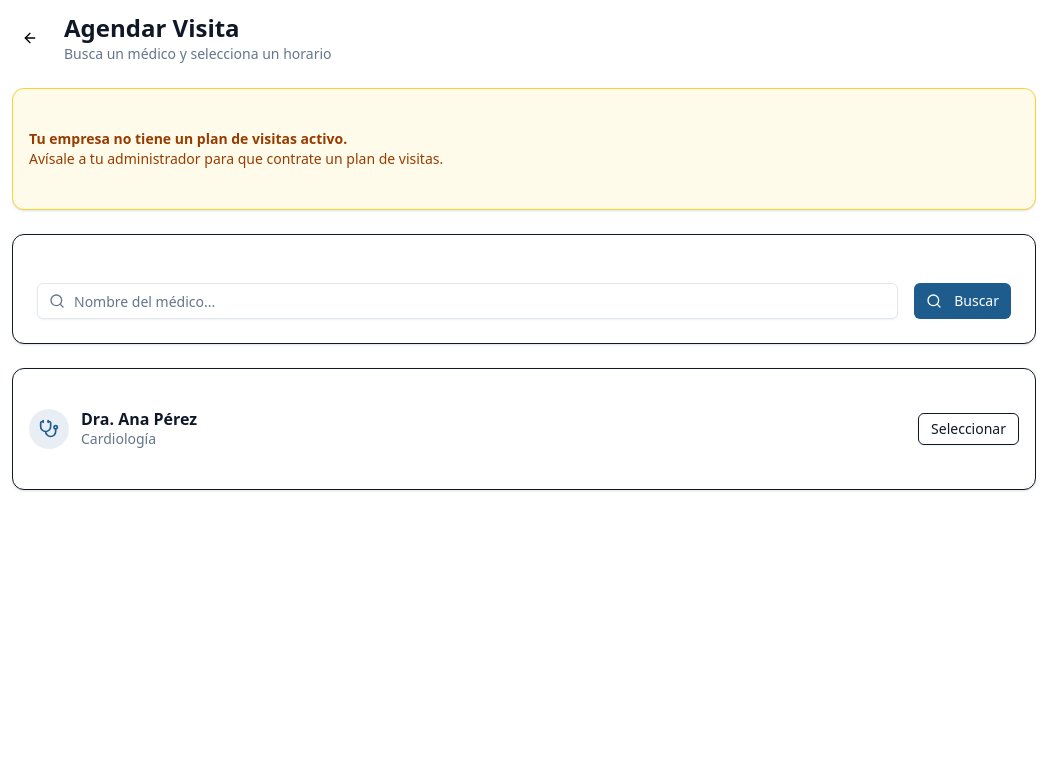
Test case: VisitadorAgendarPage — prioridad al agendar › 'propia' muestra el aviso con las visitas y no bloquea turnos
The image size is (1048, 780).
Click the button "Seleccionar".
click(969, 429)  # box [918,413,1019,445]
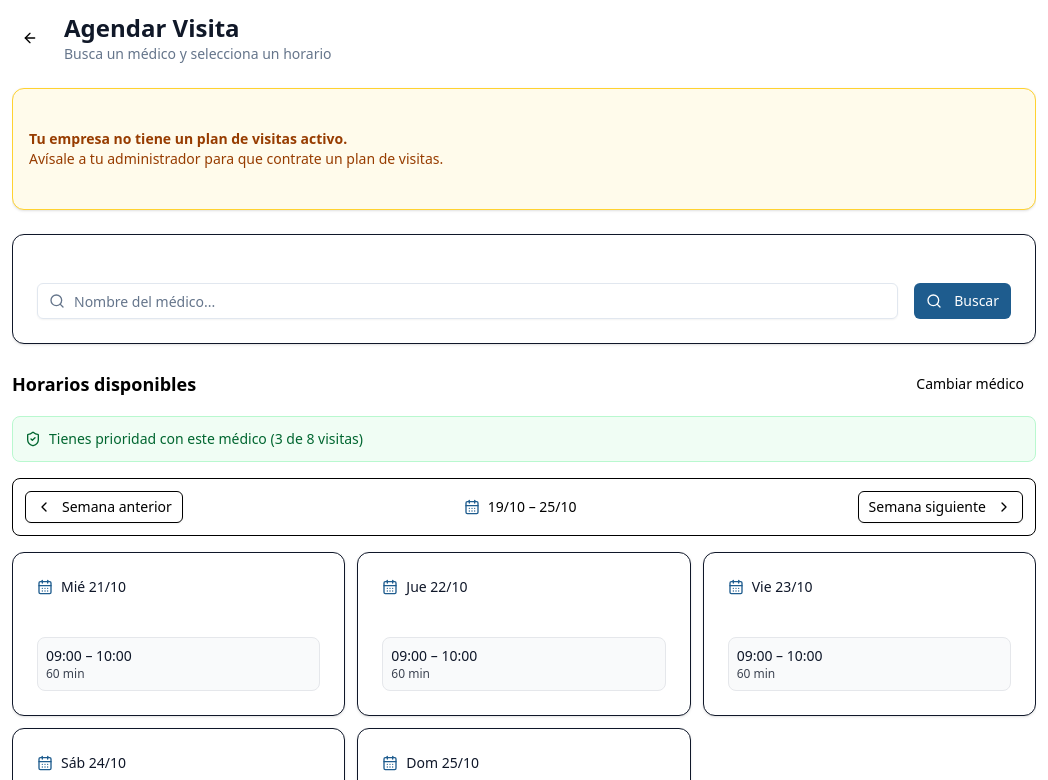
Expected: the heading "Horarios disponibles" is shown, [12,370,196,398]
Expected: the element with test id "prioridad-propia" reads "Tienes prioridad con este médico (3 de 8 visitas)", [49,429,363,448]
Expected: the button "09:00 – 10:00 60 min" below "Mié 21/10" is shown, [37,637,320,691]
